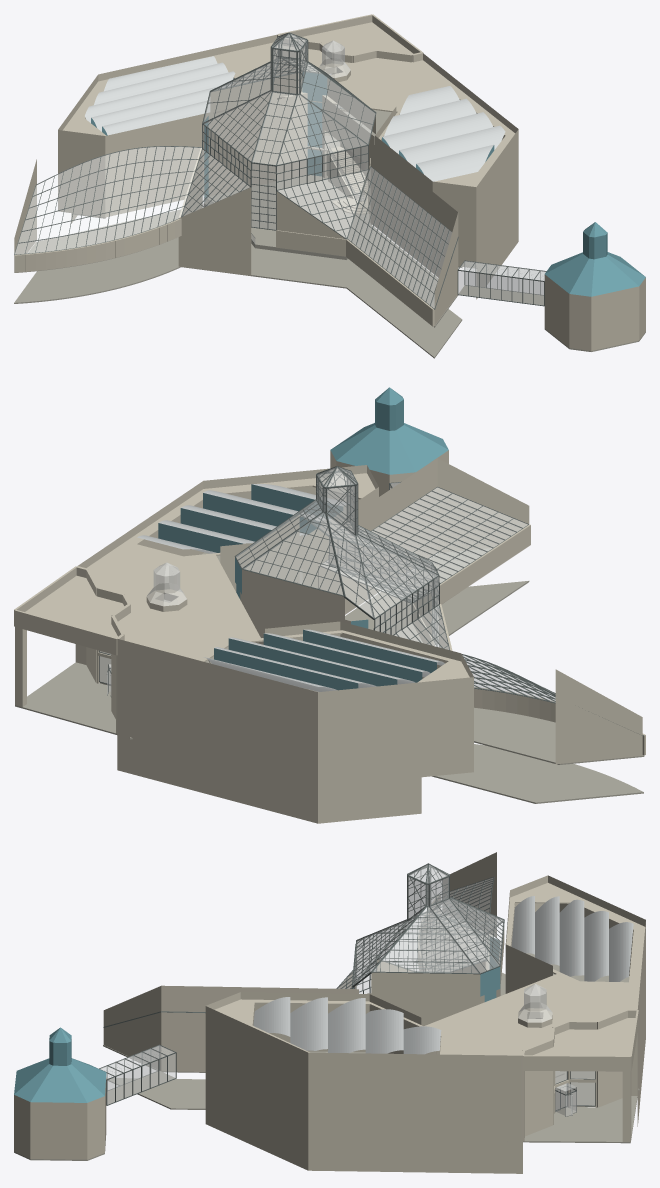
Rendered from MUDAM_R07_MERDIVEN_BOSLUGU_v001_preview.glb.
3 renders of one model, top to bottom at view 1: azimuth 30°, elevation 25°; view 2: azimuth 150°, elevation 25°; view 3: azimuth 270°, elevation 25°, orthographic. The views are drawn at different scales.
Visible parts, largest first — view 1: P05_ZONE_LM1_GALLERIES_FOYER, P05_MAIN_ROOF_DECK, P05_GALLERY_HALL_WEST1, P05_MAIN_ATRIUM_BASE_3, P05_EAST_HIGH_R02_BEFORE, P04_PAV_WALL_ENVELOPE, R07_STAIRWELL_STONE_NORTH, P05_FRONT_0, P05_FLOOR_L00_GH, P05_GALLERY_HALL_WEST2, P04_PAV_ROOF_SLOPE, P05_FLOOR_L00_EAST_GARDEN (+20 smaller); view 2: P05_FRONT_9, P05_MAIN_ROOF_DECK, P05_FRONT_10, P05_ZONE_LM1_GALLERIES_FOYER, P05_EAST_HIGH_R02_BEFORE, P05_WEST_END, P05_EAST_END, P05_GALLERY_HALL_WEST3, P04_PAV_ROOF_SLOPE, P07_CANOPY_PAVING_DISPLAY, P05_FLOOR_L00_WEST_CAFE, P07_CANOPY_SLAB_ENVELOPE (+25 smaller); view 3: P05_FRONT_1, P05_MAIN_ROOF_DECK, P05_FRONT_0, P04_PAV_WALL_ENVELOPE, P05_EAST_HIGH_R02_BEFORE, P05_EAST_END, P04_PAV_ROOF_SLOPE, P07_CANOPY_PAVING_DISPLAY, P06_HIGH_EAVE_UPSTAND_5, P07_CANOPY_SLAB_ENVELOPE, P05_WEST_END, P07_ENTRY_RETURN_1 (+15 smaller).
Part boxes in pixels (x1,y1,x2,y2): P05_ZONE_LM1_GALLERIES_FOYER: (14,237,462,358); P05_MAIN_ROOF_DECK: (62,42,517,186); P05_GALLERY_HALL_WEST1: (105,112,212,217); P05_MAIN_ATRIUM_BASE_3: (208,93,307,196); P05_EAST_HIGH_R02_BEFORE: (370,142,457,277); P04_PAV_WALL_ENVELOPE: (544,274,645,350); R07_STAIRWELL_STONE_NORTH: (178,187,251,275); P05_FRONT_0: (476,129,518,299); P05_FLOOR_L00_GH: (204,176,370,257); P05_GALLERY_HALL_WEST2: (58,130,105,217); P04_PAV_ROOF_SLOPE: (545,252,645,296); P05_FLOOR_L00_EAST_GARDEN: (348,224,457,327); P05_FRONT_9: (117,639,317,823); P05_MAIN_ROOF_DECK: (86,473,473,701); P05_FRONT_10: (318,682,421,823); P05_ZONE_LM1_GALLERIES_FOYER: (432,581,643,803); P05_EAST_HIGH_R02_BEFORE: (319,458,437,614); P05_WEST_END: (555,669,642,764); P05_EAST_END: (437,458,529,552); P05_GALLERY_HALL_WEST3: (421,677,473,777); P04_PAV_ROOF_SLOPE: (330,423,448,474); P07_CANOPY_PAVING_DISPLAY: (15,662,117,734); P05_FLOOR_L00_WEST_CAFE: (474,707,644,764); P07_CANOPY_SLAB_ENVELOPE: (25,575,124,637); P05_FRONT_1: (308,1052,522,1173); P05_MAIN_ROOF_DECK: (207,883,645,1064); P05_FRONT_0: (205,1006,308,1170); P04_PAV_WALL_ENVELOPE: (14,1077,106,1159); P05_EAST_HIGH_R02_BEFORE: (161,985,358,1071); P05_EAST_END: (103,986,161,1070); P04_PAV_ROOF_SLOPE: (14,1058,106,1102); P07_CANOPY_PAVING_DISPLAY: (523,1096,637,1143); P06_HIGH_EAVE_UPSTAND_5: (371,972,480,996); P07_CANOPY_SLAB_ENVELOPE: (533,1018,635,1055); P05_WEST_END: (442,852,496,937); P07_ENTRY_RETURN_1: (522,1039,553,1136).
Size of the model in its own units: 80.45 by 35.94 by 93.28.
